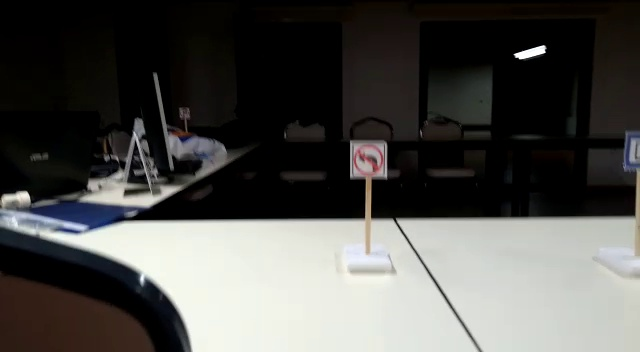sola_donulmez: (349, 141, 386, 177)
